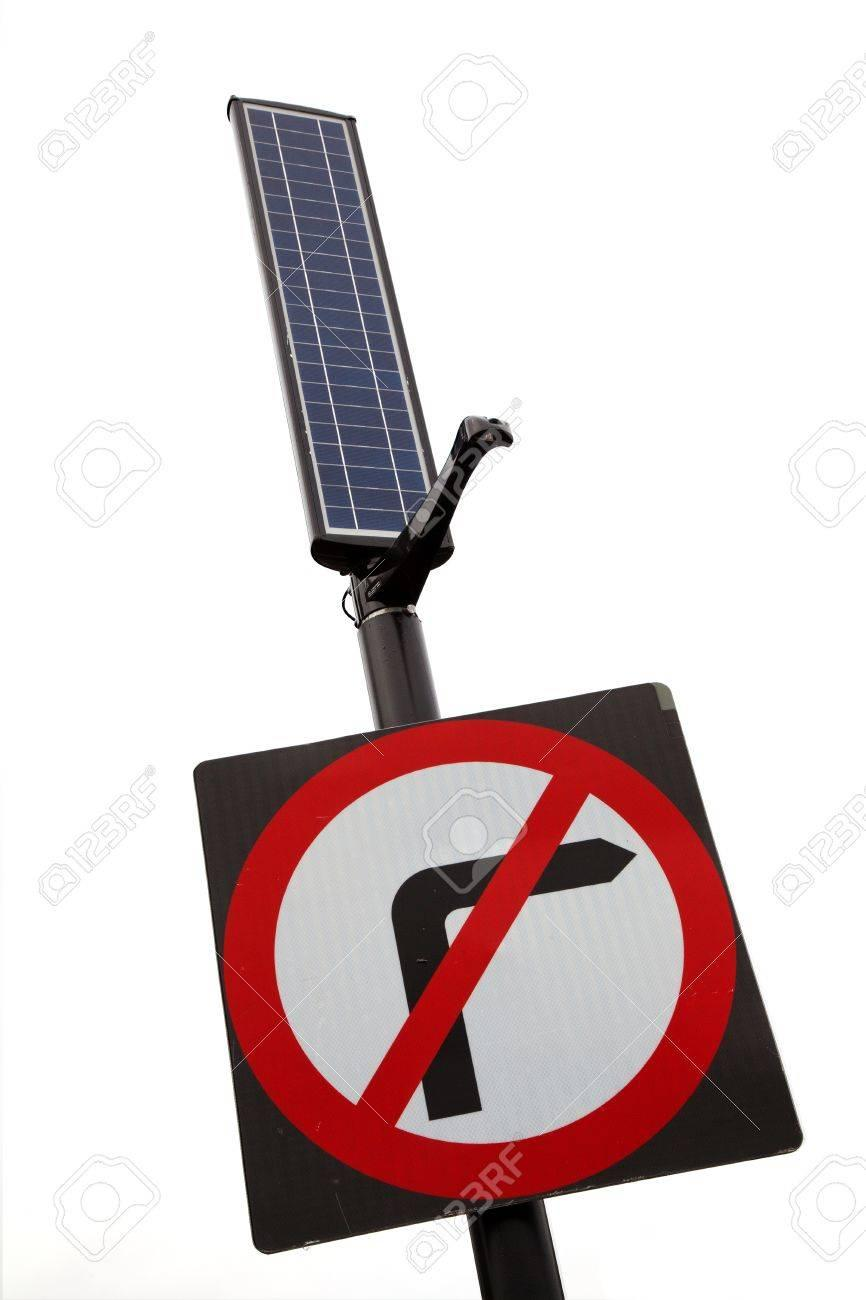no_right_turn: (215, 720, 737, 1193)
